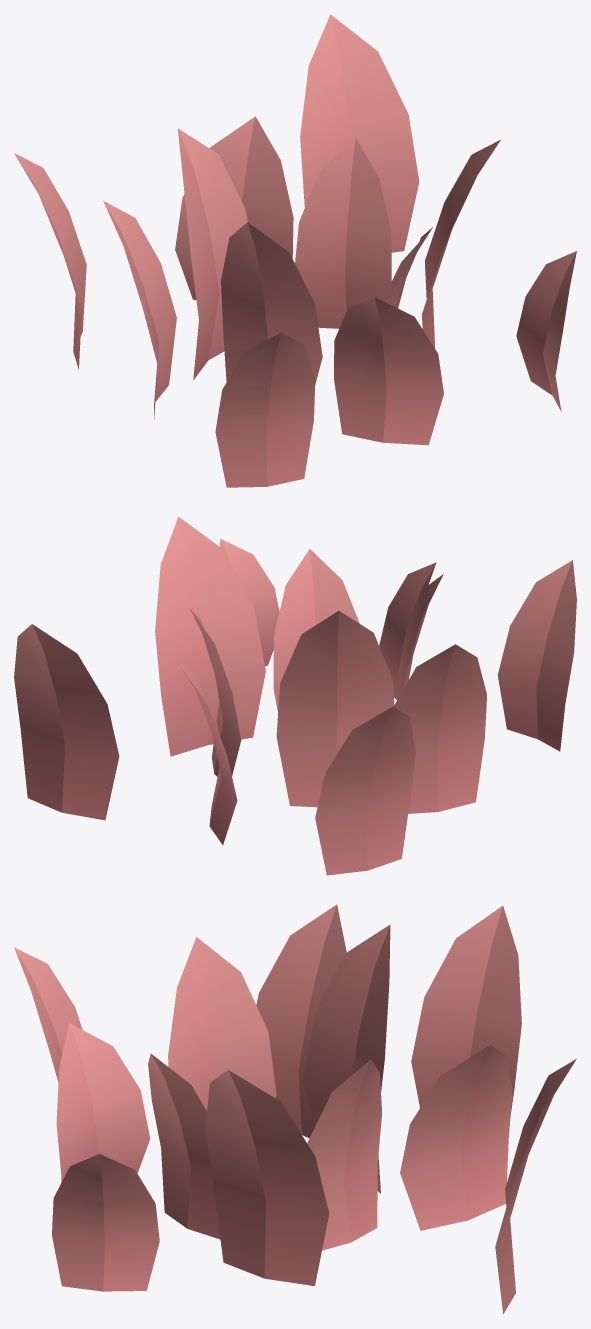
The model's file is Grass_1_D_Singlesided_Color8.fbx.
3 renders of one model, top to bottom at view 1: azimuth 30°, elevation 25°; view 2: azimuth 150°, elevation 25°; view 3: azimuth 270°, elevation 25°, orthographic. The views are drawn at different scales.
Parts seen in each view (by area): view 1: Grass_1_D_Singlesided_Color8; view 2: Grass_1_D_Singlesided_Color8; view 3: Grass_1_D_Singlesided_Color8.
Part boxes in pixels (box(x1,y1,x2,y2)): Grass_1_D_Singlesided_Color8: box(14, 14, 576, 487); Grass_1_D_Singlesided_Color8: box(14, 516, 576, 875); Grass_1_D_Singlesided_Color8: box(14, 904, 576, 1314).
Size of the model in its own units: 1.04 by 0.5837 by 1.19.
